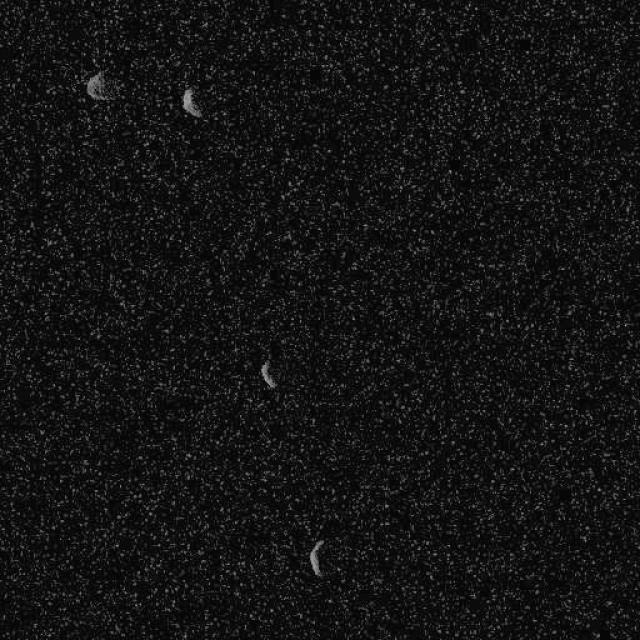D2: (85, 67, 115, 101), (180, 86, 202, 119), (307, 538, 325, 578), (258, 359, 278, 389)
